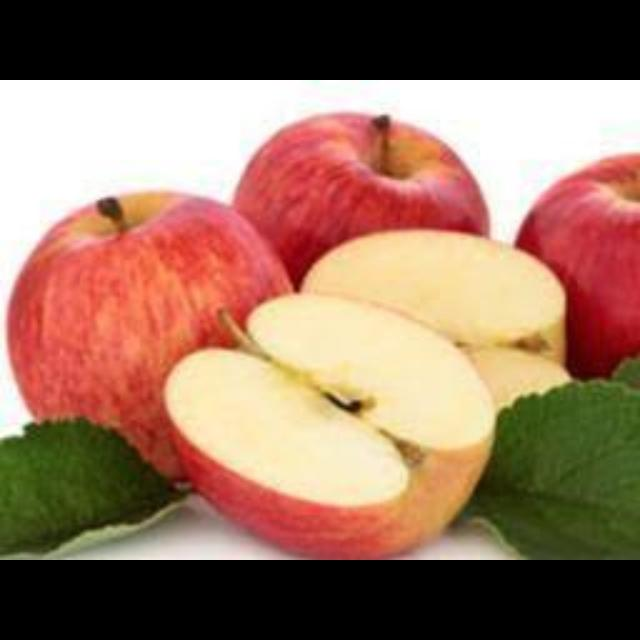apple: (165, 292, 492, 555), (8, 190, 290, 478), (232, 112, 488, 285), (302, 230, 565, 360), (515, 152, 638, 378)
